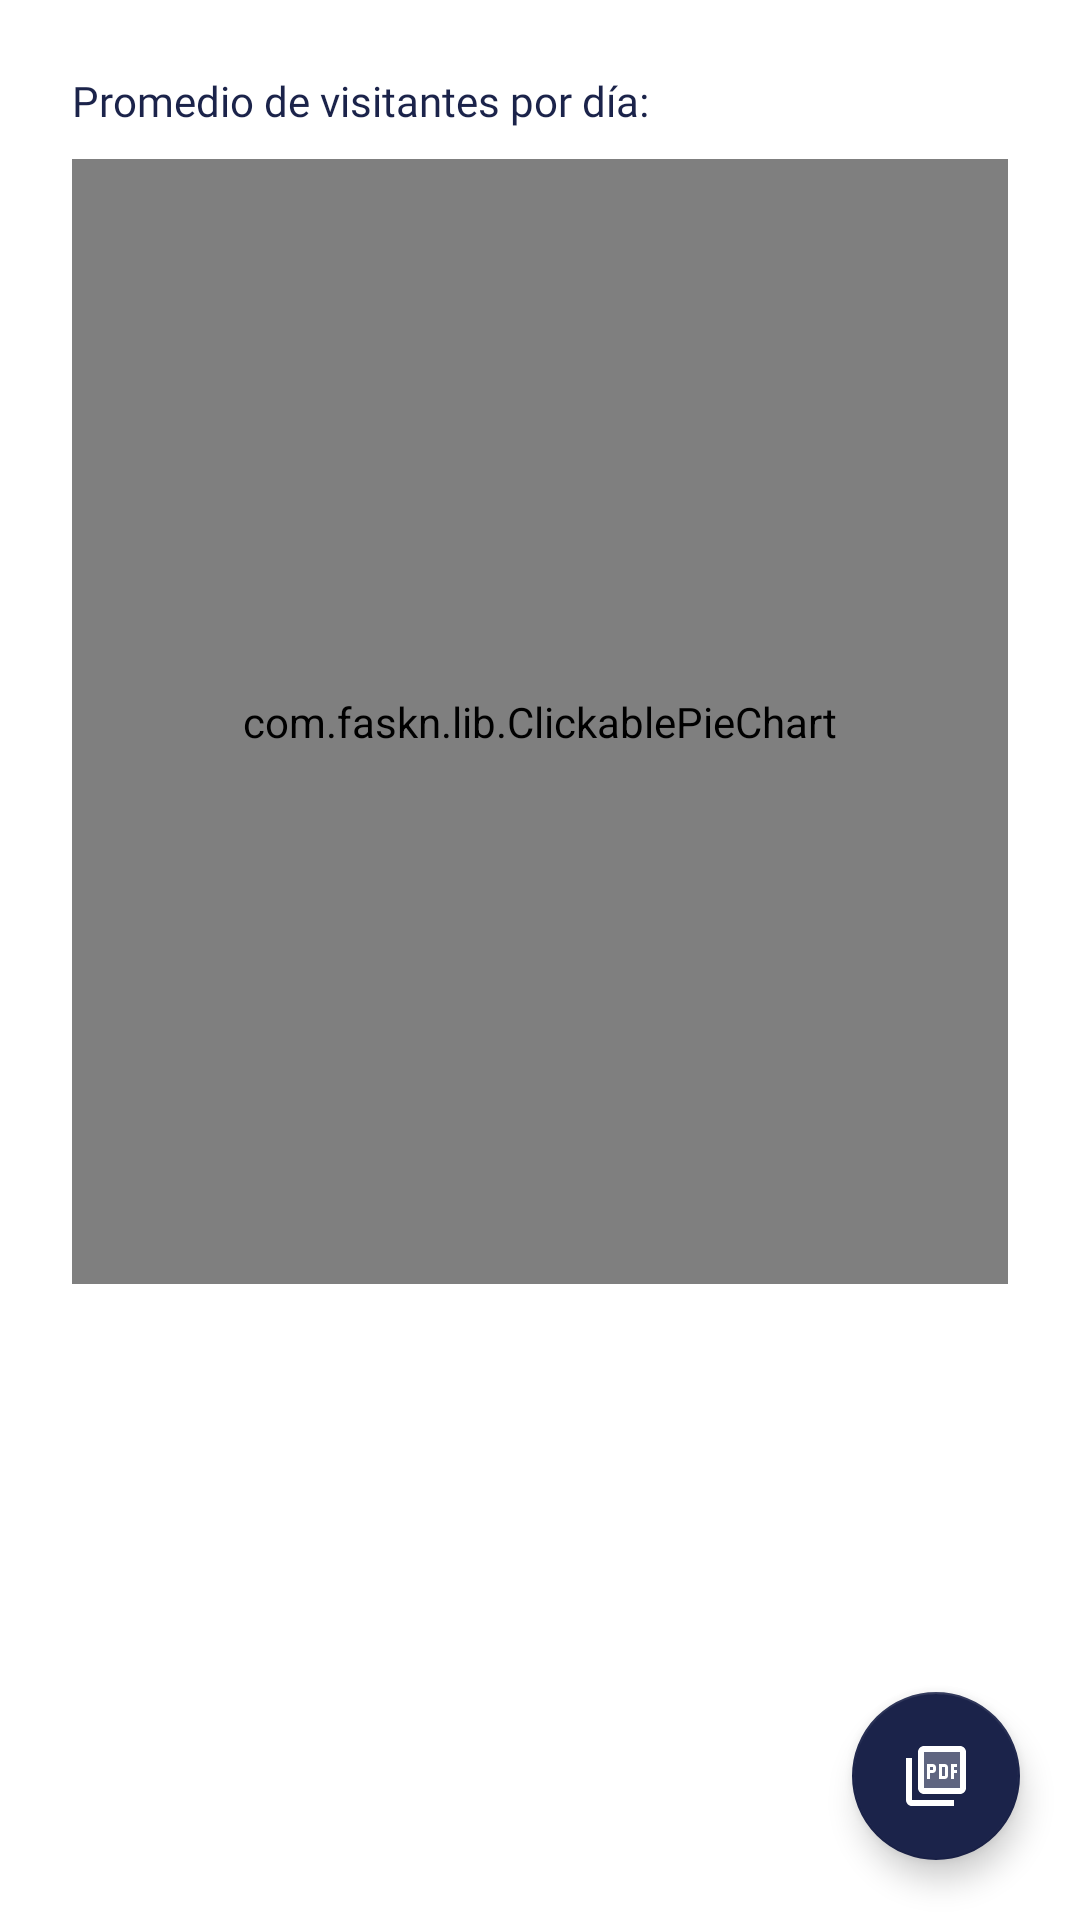

Icons on this 1080 × 1920 Android screen, each with its box as (x1, y1, x2, y2):
picture as pdf: (852, 1692, 1020, 1860)
